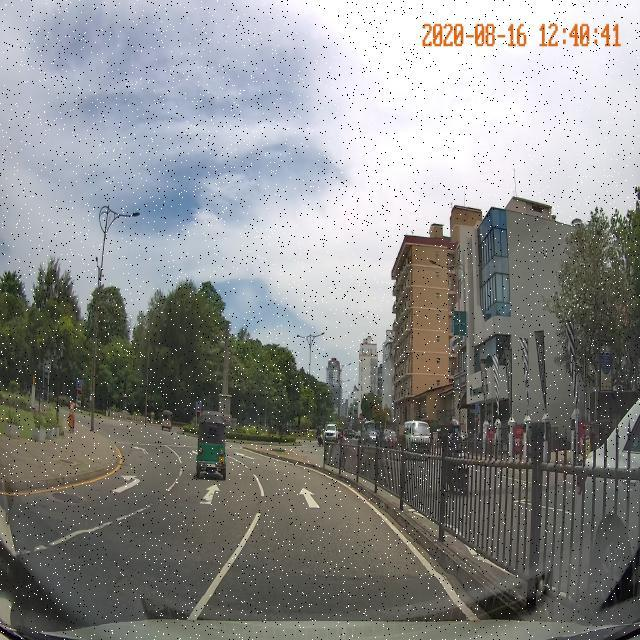forward: (245, 479, 389, 519), (139, 476, 266, 521)
